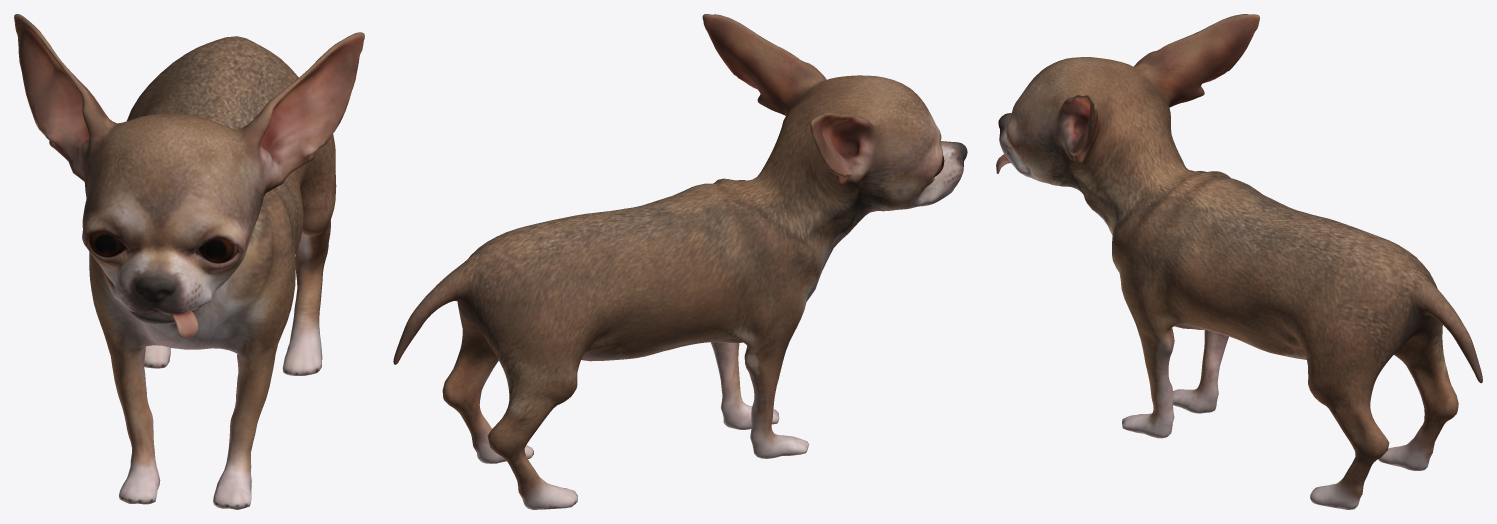
Rendered from scenekiwawa-v1.glb.
3 views of the same model, side by side, from view 1: azimuth 30°, elevation 25°; view 2: azimuth 150°, elevation 25°; view 3: azimuth 270°, elevation 25° (orthographic). The views are drawn at different scales.
Visible parts, largest first — view 1: Object004j_Material #40_0; view 2: Object004j_Material #40_0; view 3: Object004j_Material #40_0.
Boxes of the visible parts, x1,y1,x2,y2 form: Object004j_Material #40_0: [14, 14, 364, 509]; Object004j_Material #40_0: [393, 14, 967, 509]; Object004j_Material #40_0: [996, 14, 1482, 509].
Bounding box in the file's own units: 0.2822 × 0.2936 × 0.3565.
Materials: 1 (1 with a texture image).
